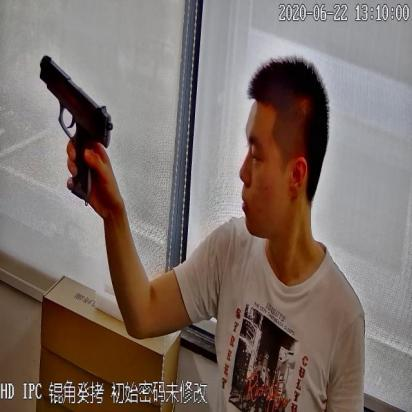Gun: (34, 48, 110, 194)
